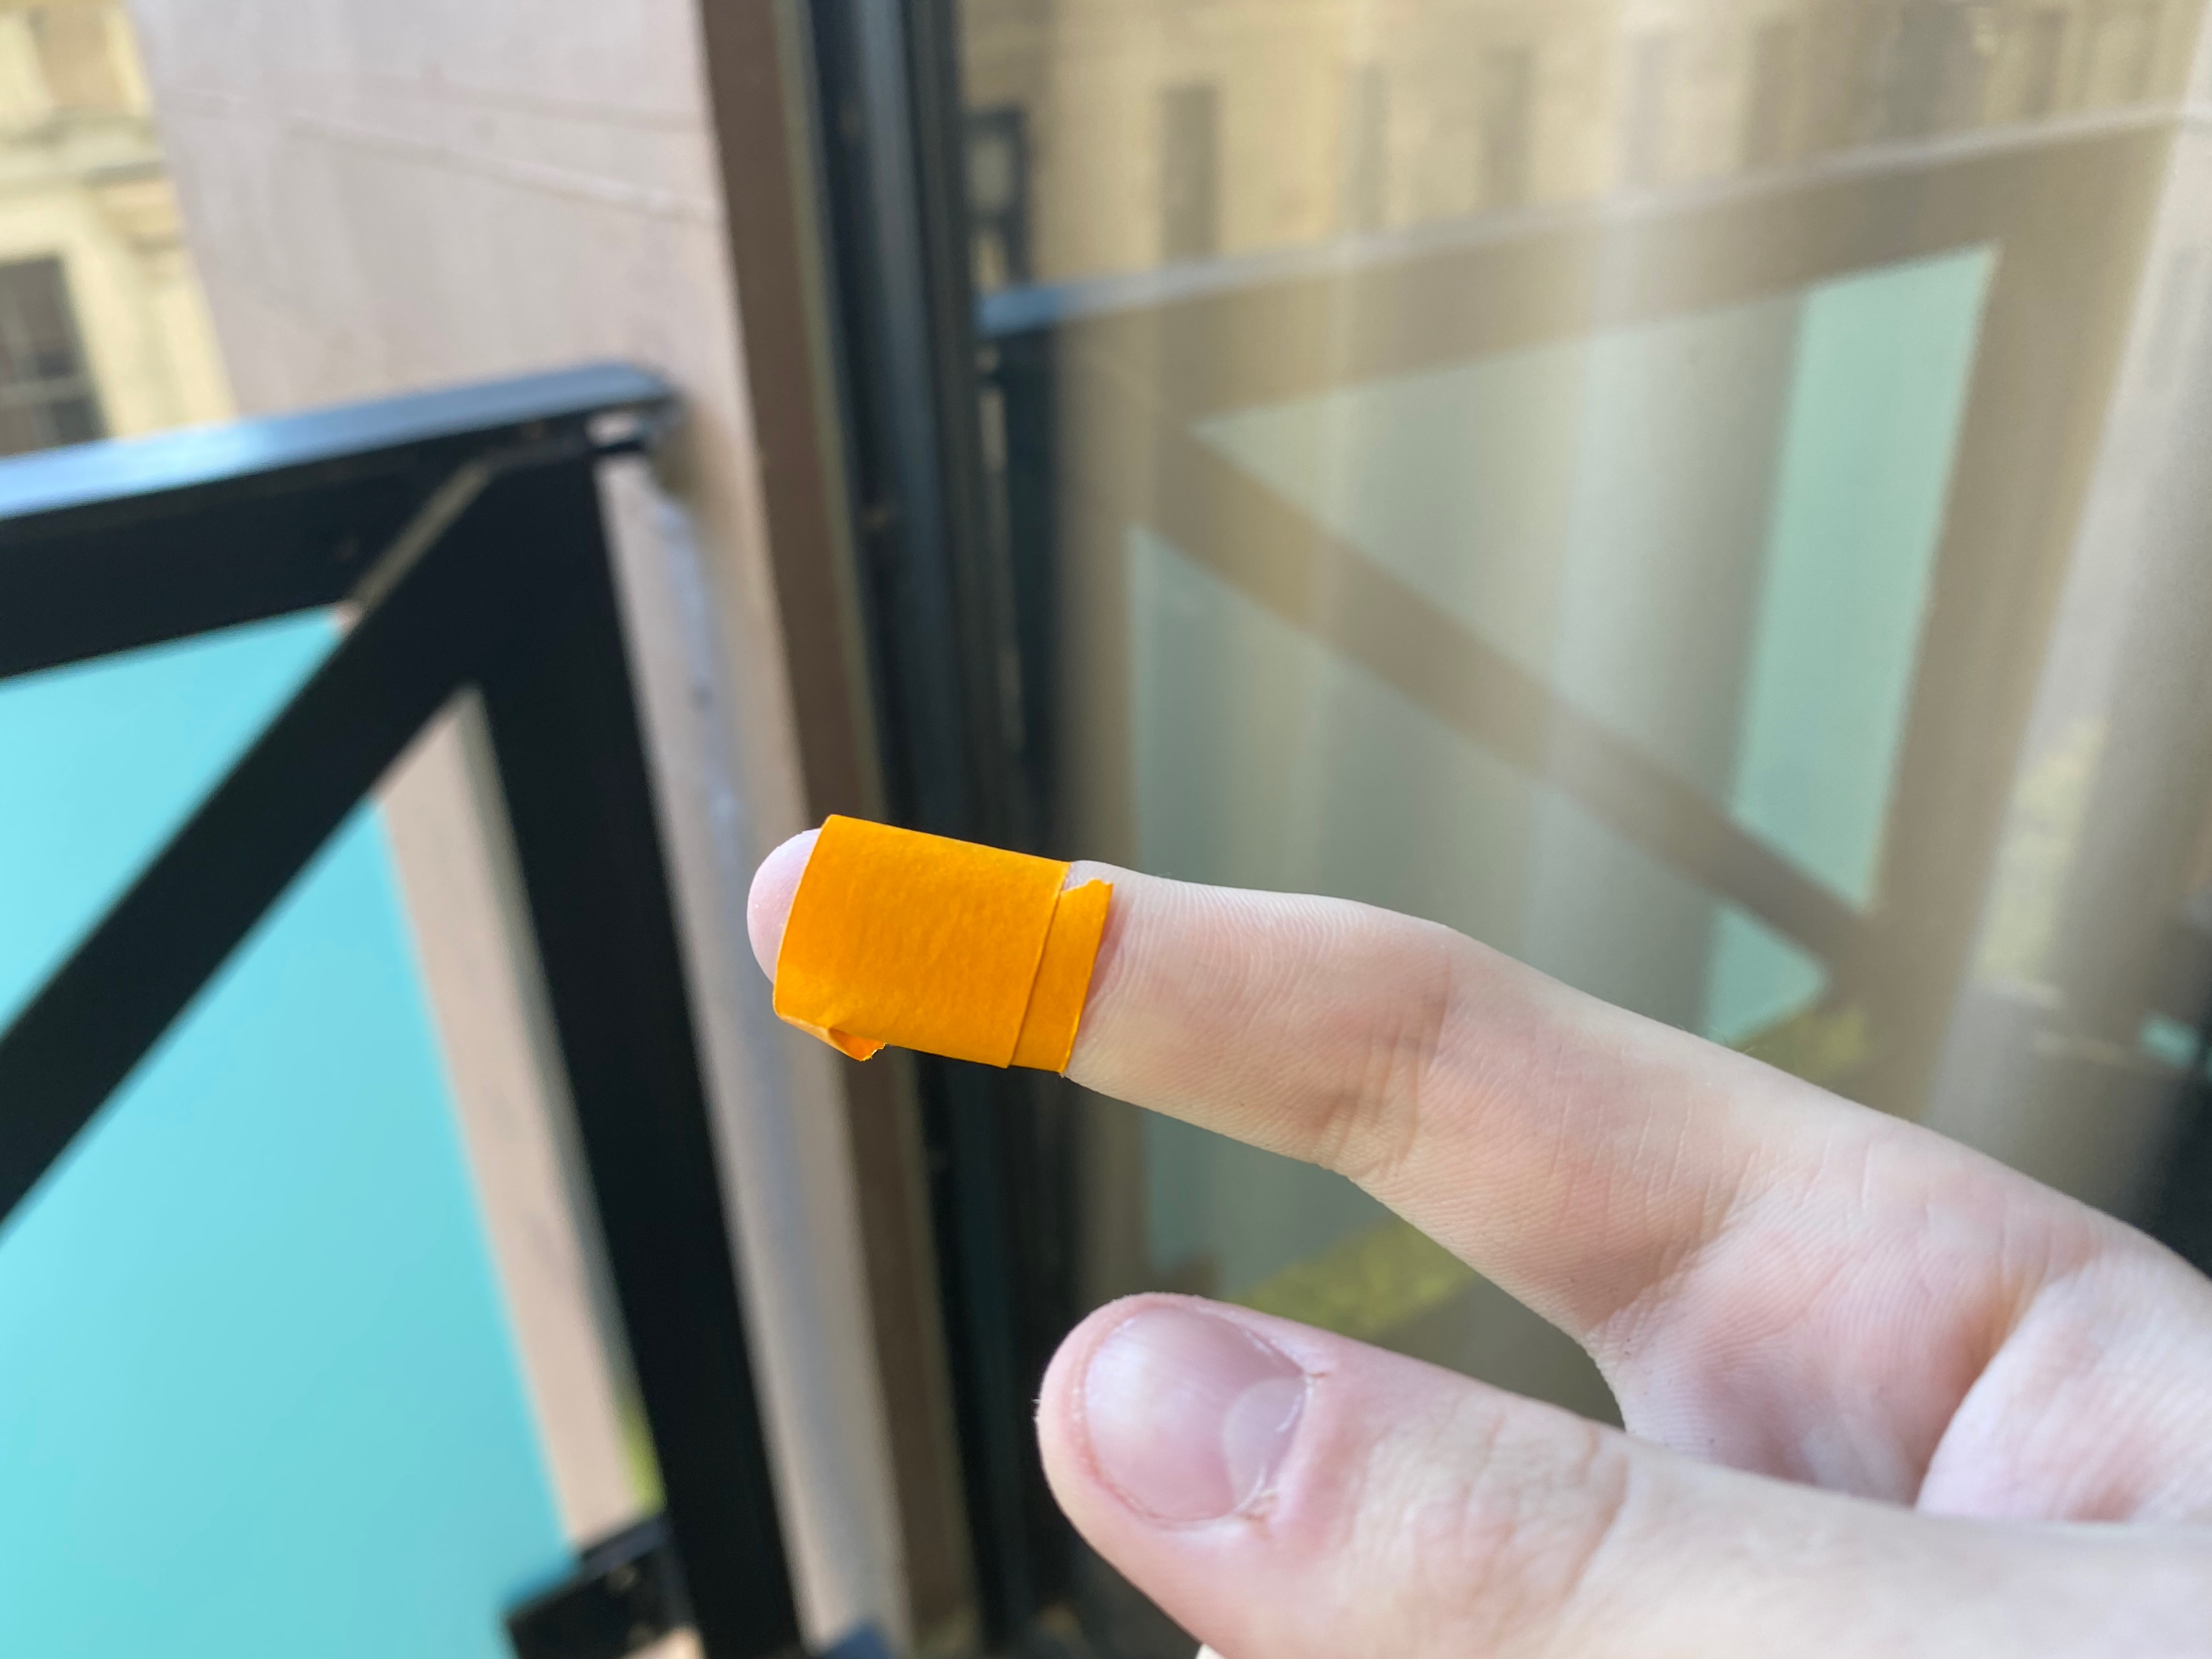fingertip: (712, 772, 1160, 1121)
